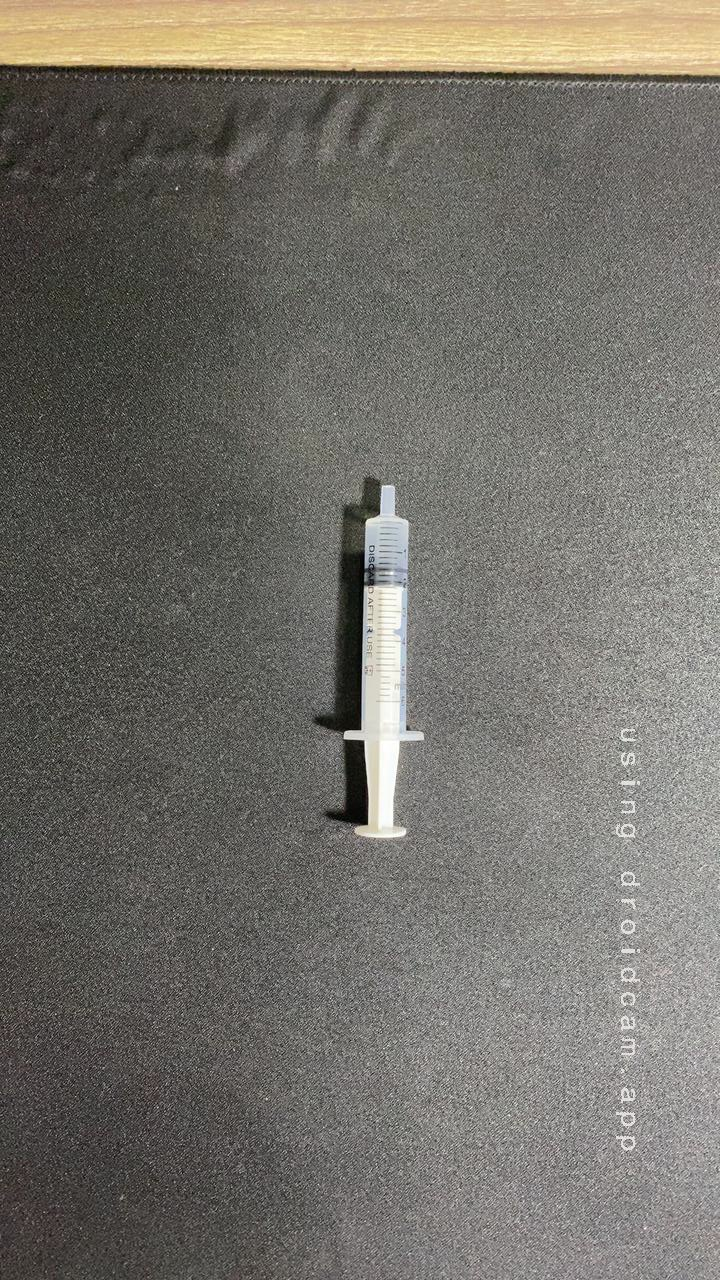syringe: (303, 467, 477, 877)
